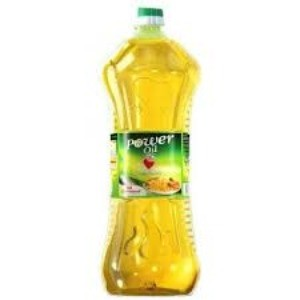vegetable oil_brain food: (95, 65, 198, 267)
